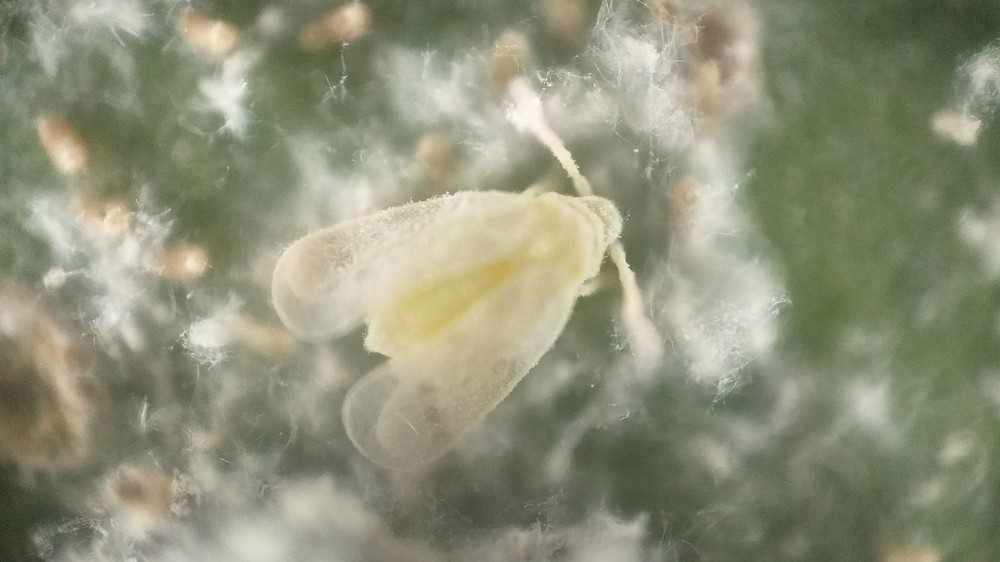Mosca Blanca: (262, 78, 672, 503)
